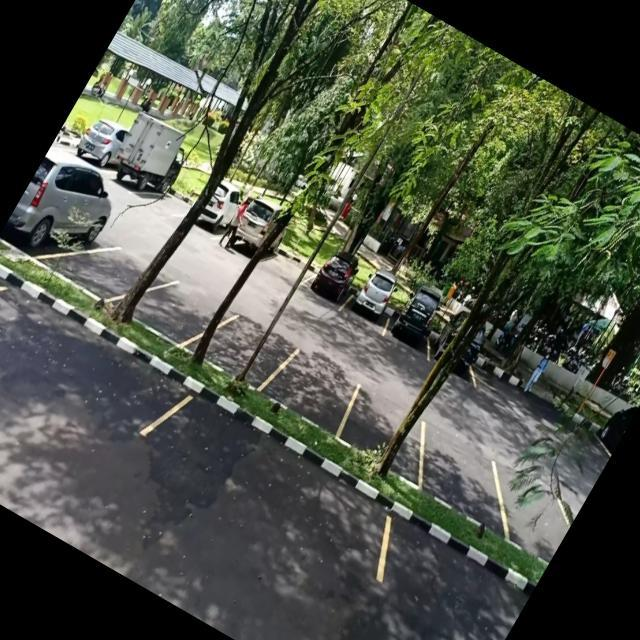empty: (140, 377, 412, 576), (0, 266, 186, 440), (400, 419, 534, 540), (329, 367, 448, 483), (259, 334, 374, 444), (56, 221, 176, 324), (194, 296, 305, 401), (128, 268, 223, 358)
occupied: (1, 156, 122, 280), (338, 272, 404, 338), (298, 252, 362, 314), (380, 297, 442, 357)
